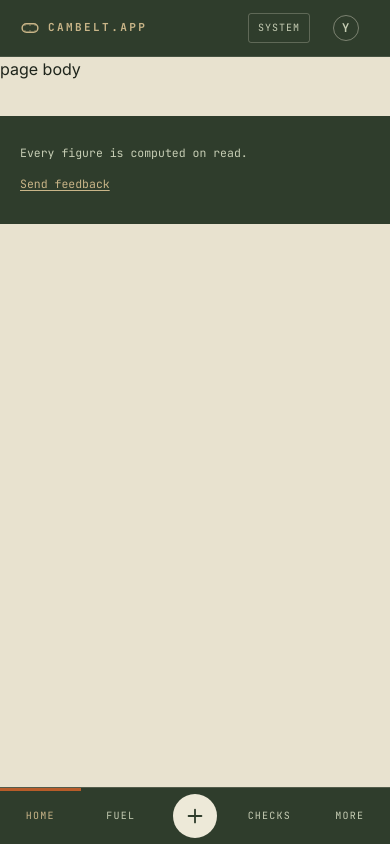
Test case: BottomNav › opens the All screens sheet
Click the button "More" at x=350, y=816, box [310, 788, 389, 843]
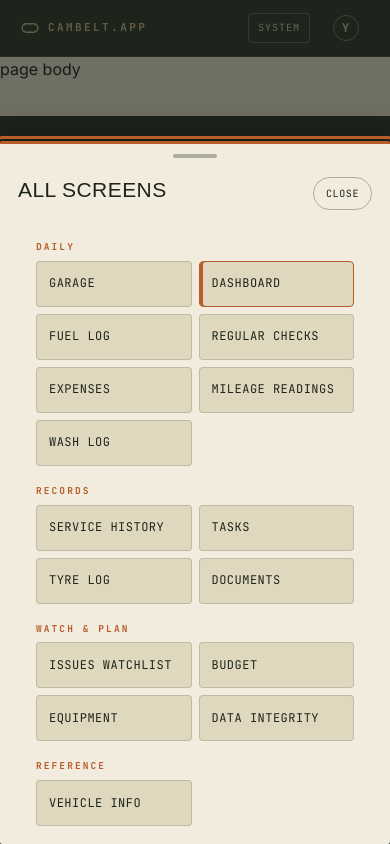
Check: the text "Daily" is shown, box [36, 240, 75, 253]
Check: the link "Mileage readings" is shown, box [198, 367, 354, 413]
